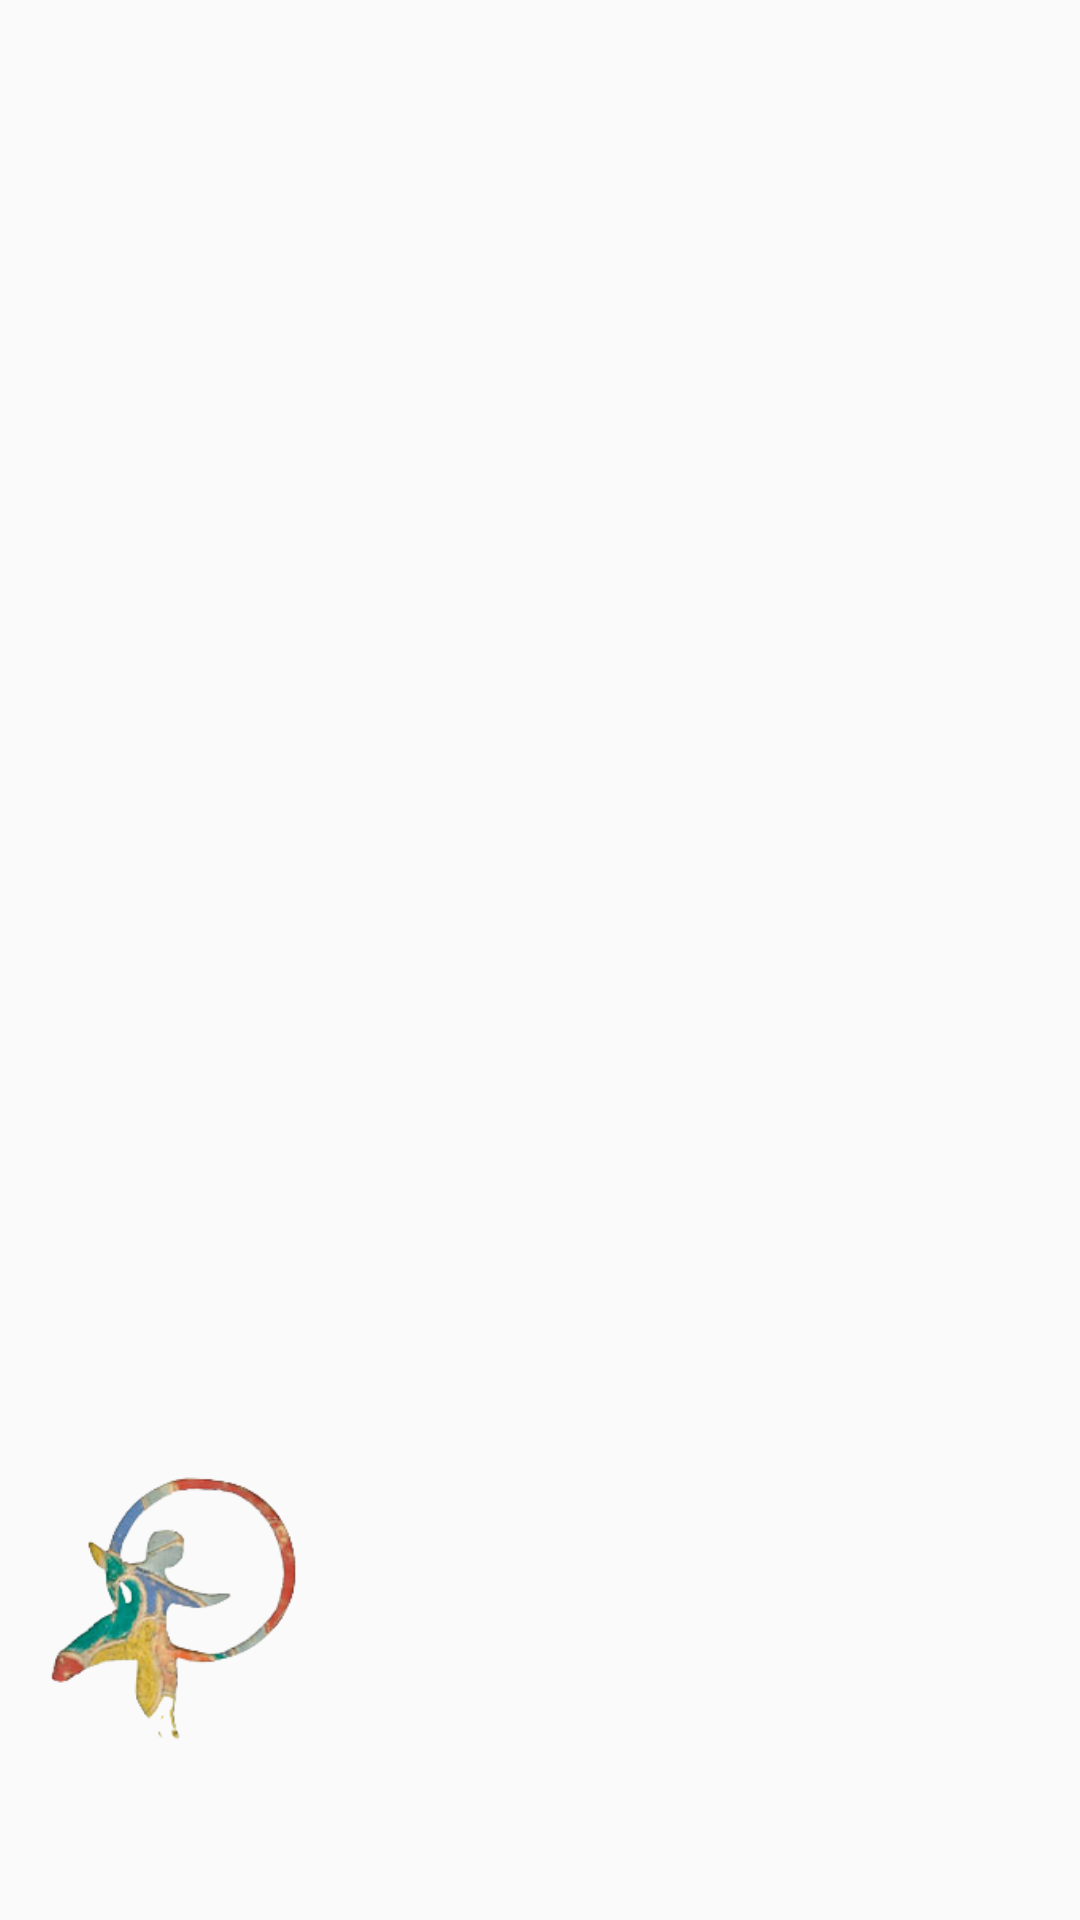

Where to tap for icons on this 1080 x 1920 app screen, as (x=x, y=y):
walk the loop: (x=173, y=1608)
